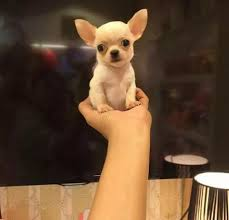chihuahua: (68, 3, 175, 119)
